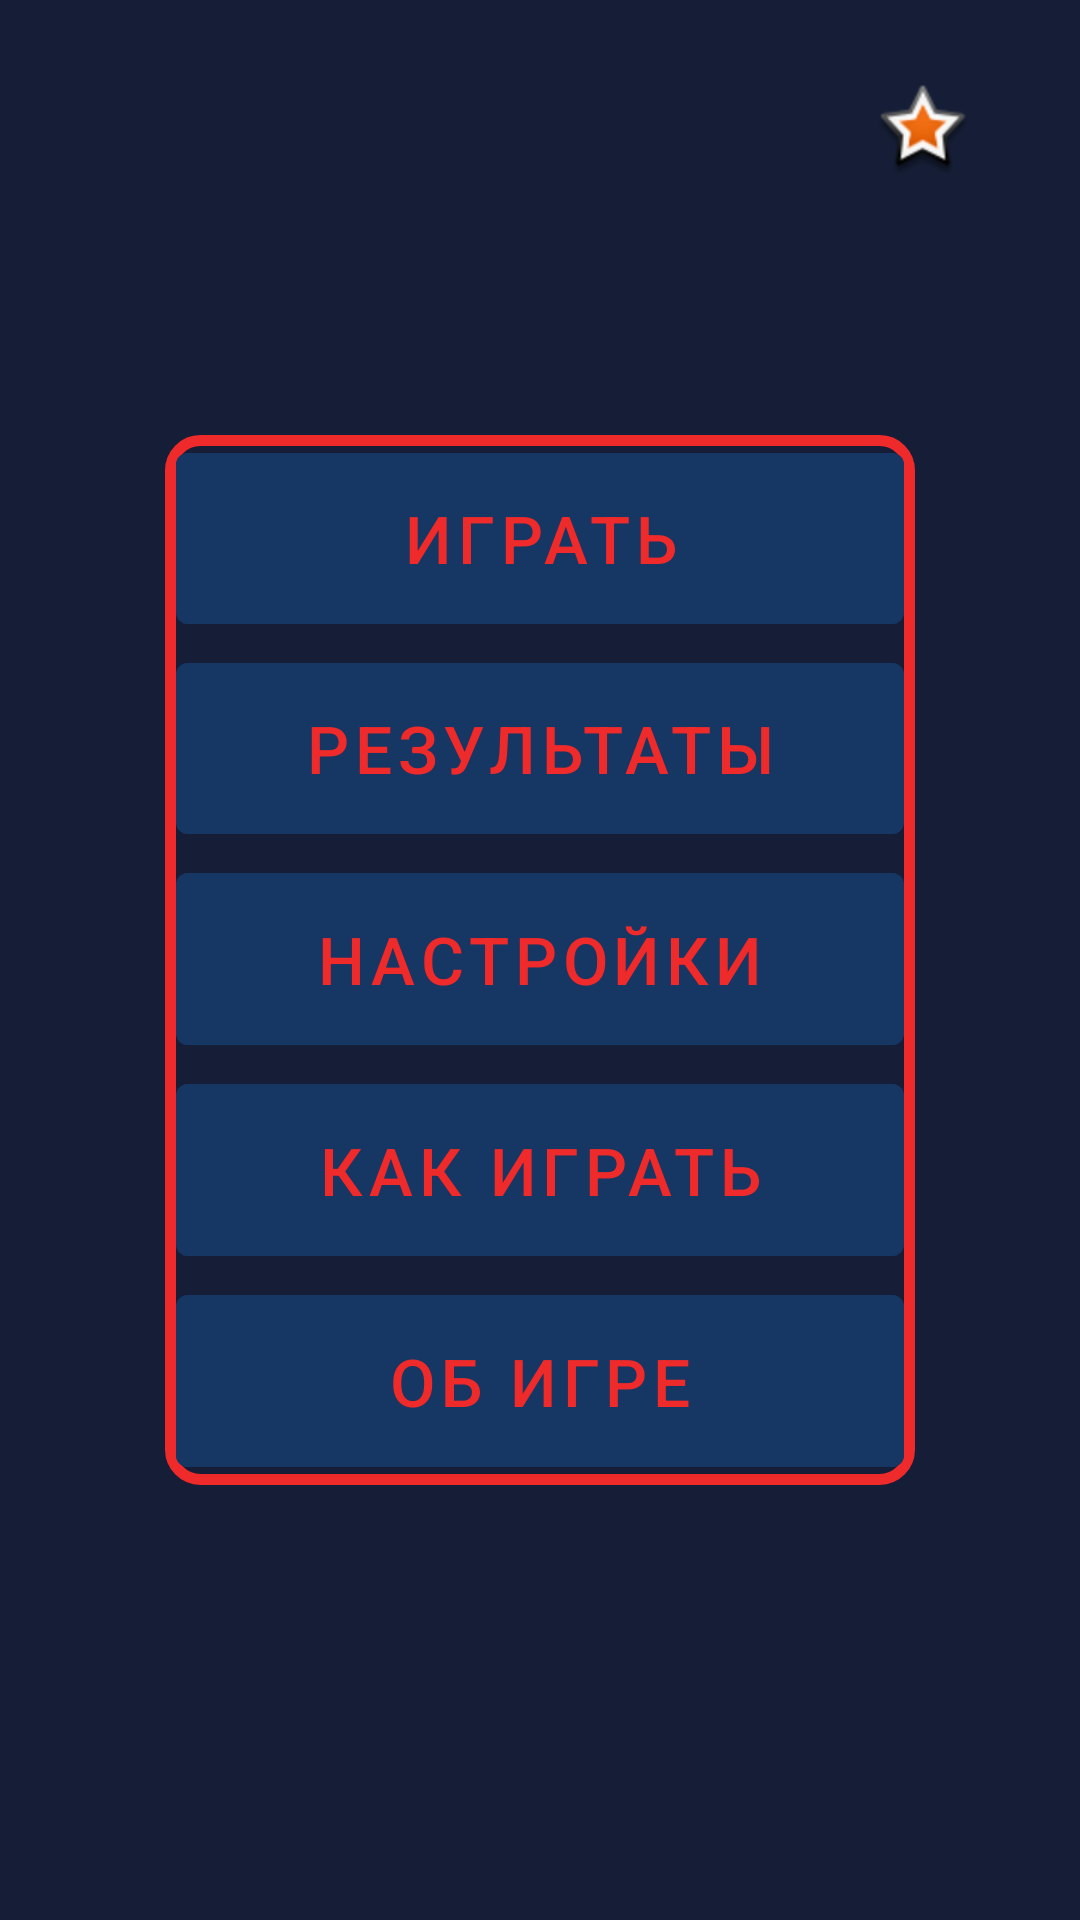

Where to tap for icons on this 1080w x 1920h app screen, as (x,y):
star on: (923,125)
